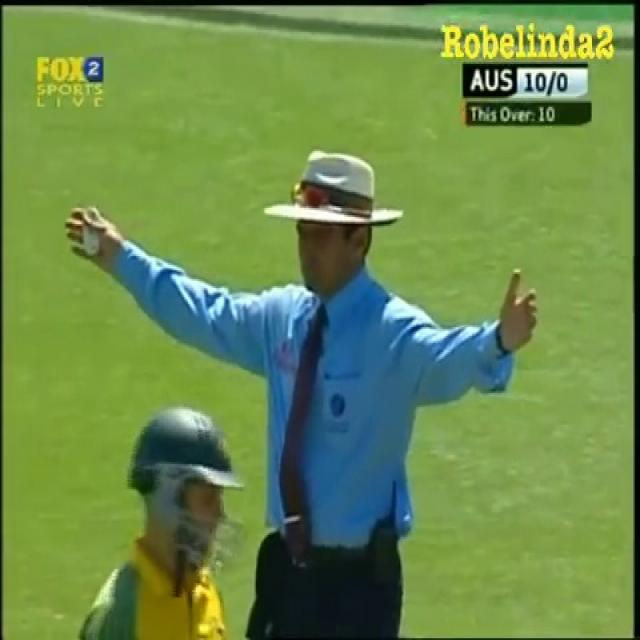Wide: (59, 140, 549, 640)
